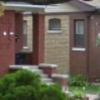stairs: (8, 63, 83, 99)
